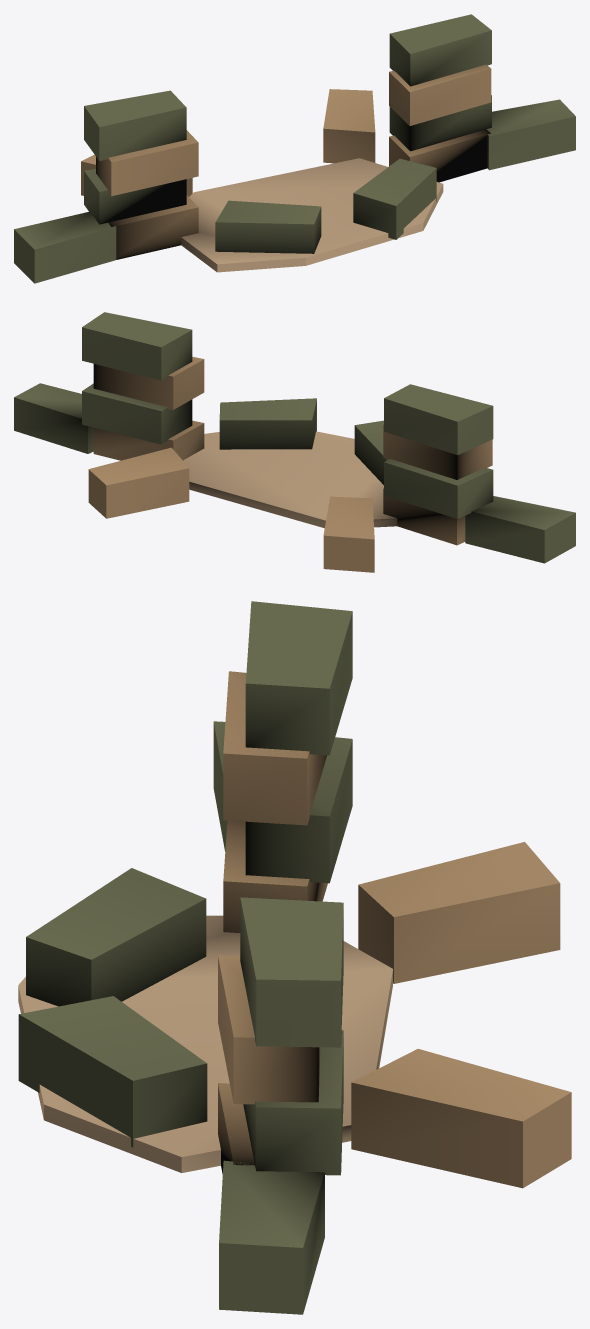
The picture shows the model from 3 angles, top to bottom: view 1: azimuth 30°, elevation 25°; view 2: azimuth 150°, elevation 25°; view 3: azimuth 270°, elevation 25°; orthographic projection. The views are drawn at different scales.
Parts seen in each view (by area): view 1: body_pal_olive, body_pal_khaki, body_pal_canvasTan; view 2: body_pal_olive, body_pal_khaki, body_pal_canvasTan; view 3: body_pal_olive, body_pal_khaki, body_pal_canvasTan.
Boxes of the visible parts, x1,y1,x2,y2 form: body_pal_olive: [14, 14, 575, 283]; body_pal_khaki: [81, 64, 491, 259]; body_pal_canvasTan: [181, 158, 443, 272]; body_pal_olive: [14, 312, 575, 563]; body_pal_khaki: [88, 356, 492, 572]; body_pal_canvasTan: [183, 431, 397, 528]; body_pal_olive: [18, 601, 352, 1314]; body_pal_khaki: [218, 671, 571, 1188]; body_pal_canvasTan: [18, 915, 392, 1172].
Bounding box in the file's own units: 3.89 × 0.89 × 1.73.
